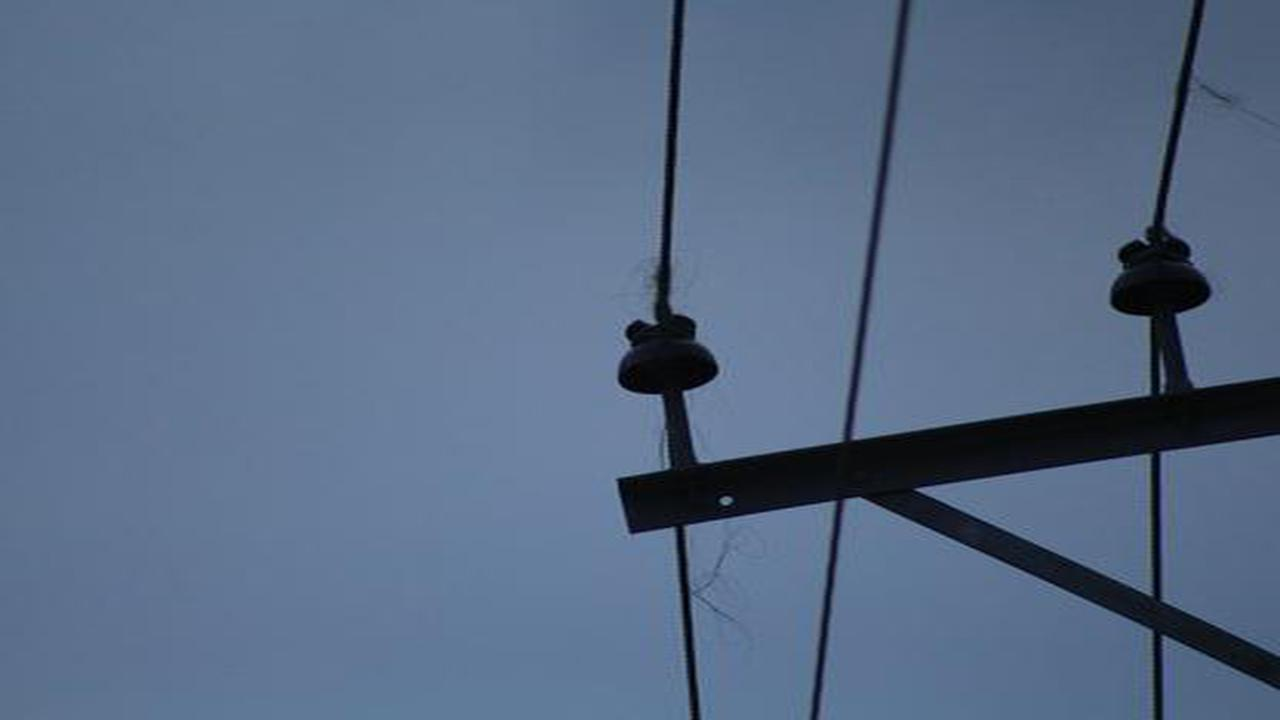insulator_pin: (1101, 228, 1221, 323), (613, 309, 725, 396)
